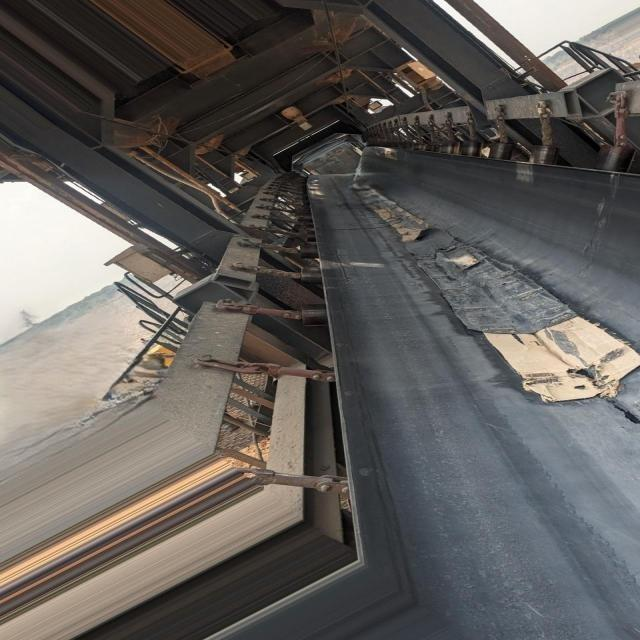Tear: (598, 391, 640, 431)
